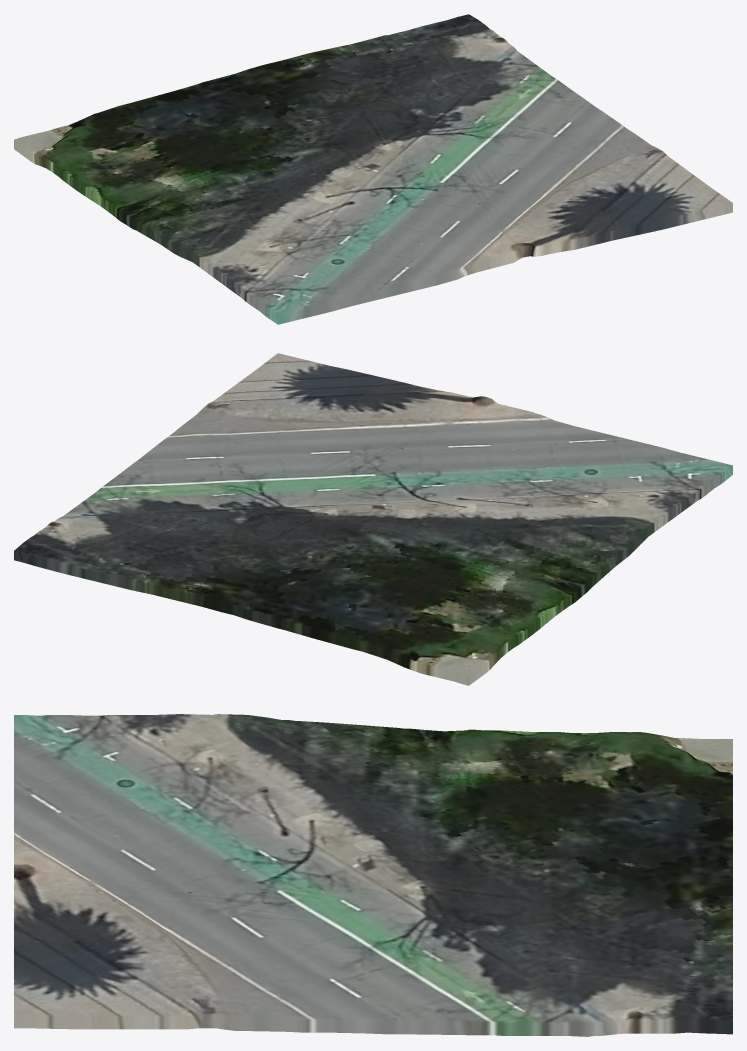
The model's file is z20-167769-405194-h0-yup-uvflip-v3-world.glb.
The picture shows the model from 3 angles, top to bottom: view 1: azimuth 30°, elevation 25°; view 2: azimuth 150°, elevation 25°; view 3: azimuth 270°, elevation 25°; orthographic projection. The views are drawn at different scales.
Size of the model in its own units: 30.16 by 2.24 by 30.32.
1 material, 1 textured.
